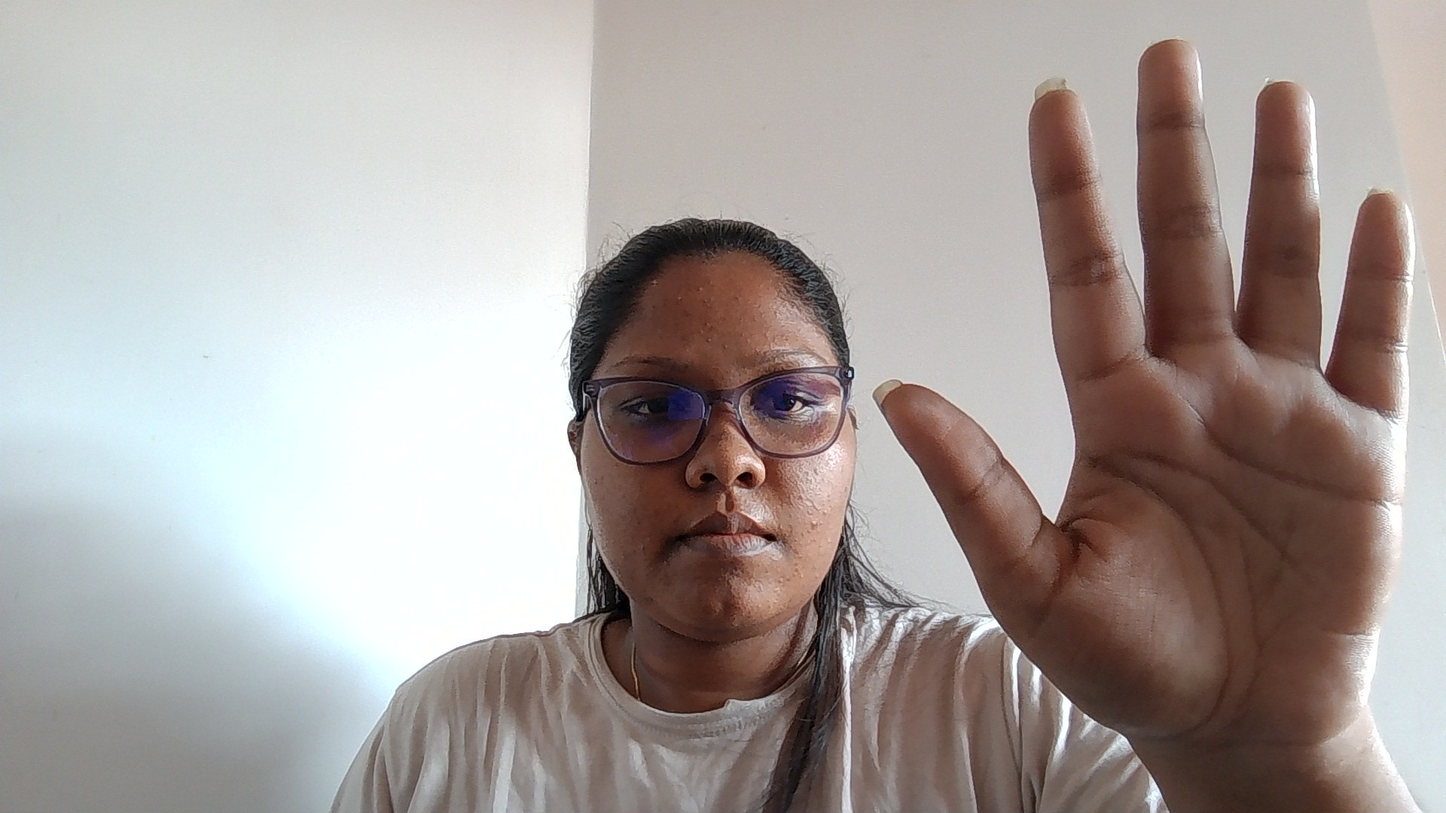Hello: (894, 48, 1435, 748)
